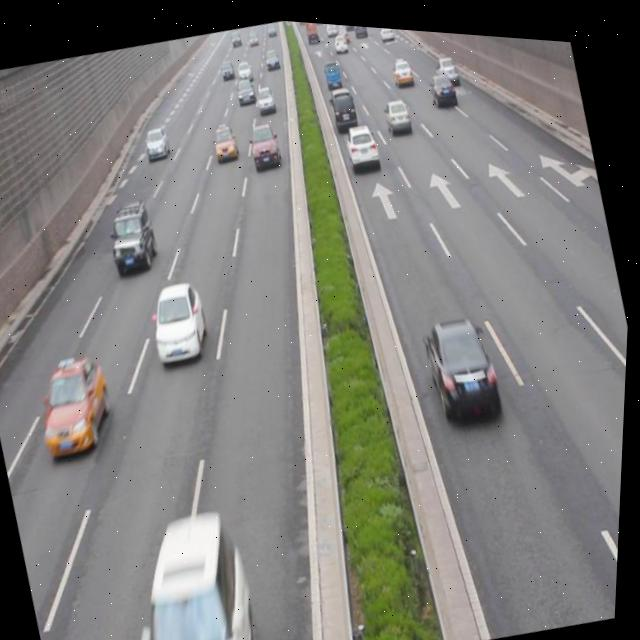car: (113, 506, 274, 640), (417, 299, 510, 425), (30, 347, 123, 463), (144, 274, 217, 368), (104, 195, 163, 273), (338, 112, 383, 169), (244, 116, 285, 167)
